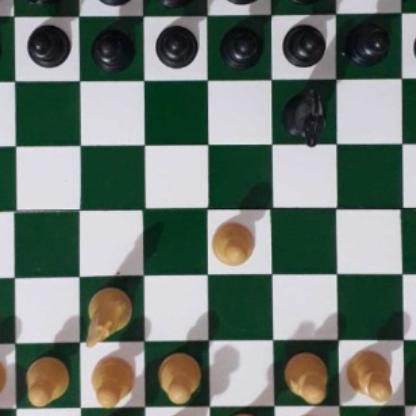black-bishop: (278, 0, 332, 3), (87, 0, 139, 3)
black-king: (215, 0, 269, 6)
black-knight: (282, 84, 327, 145), (19, 0, 62, 3)
black-pawn: (26, 20, 69, 68), (154, 19, 196, 68), (282, 18, 325, 65), (347, 18, 389, 65), (219, 22, 261, 68), (91, 23, 132, 69), (412, 20, 416, 69), (0, 24, 0, 68)
black-queen: (149, 0, 200, 4)
black-rook: (0, 0, 6, 4), (410, 0, 416, 2)
white-bishop: (285, 414, 335, 416)
white-king: (217, 413, 267, 416)
white-knight: (82, 282, 131, 343)
white-pawn: (344, 346, 394, 400), (88, 352, 134, 405), (155, 350, 200, 401), (284, 350, 329, 401), (23, 354, 68, 402), (209, 219, 254, 265), (0, 351, 6, 405)
white-queen: (151, 414, 204, 416)
white-rook: (414, 408, 416, 416), (0, 413, 0, 416)
